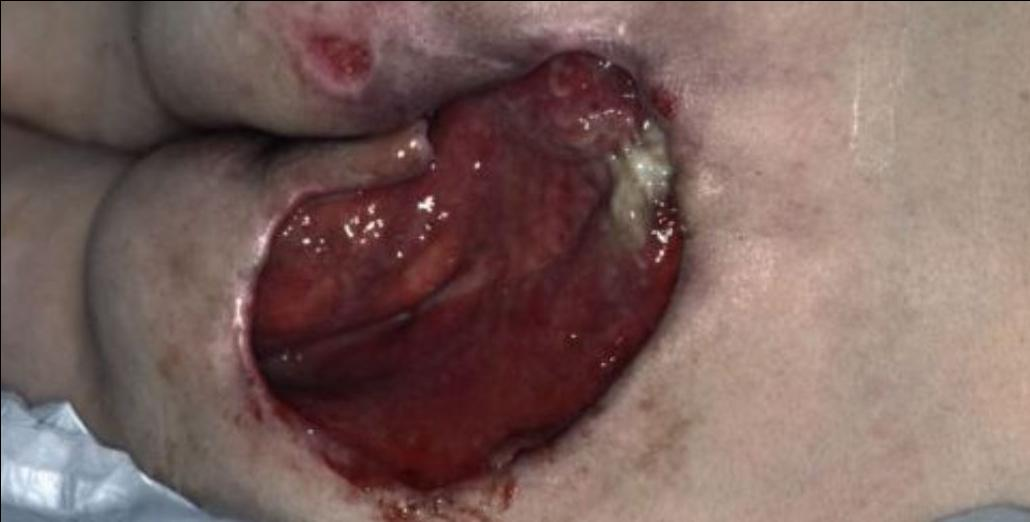Stage3: (235, 0, 843, 515)
